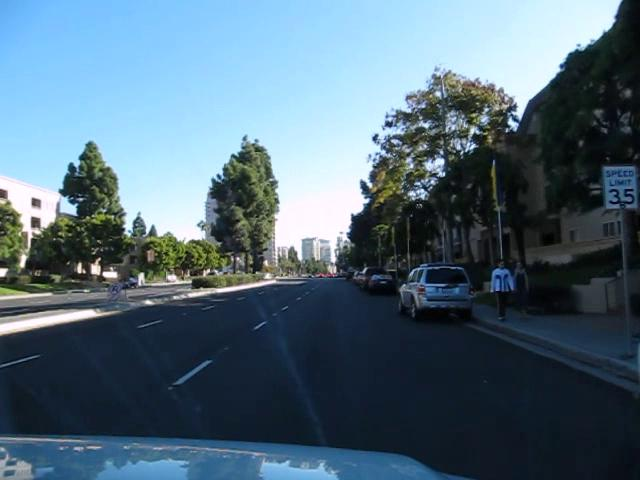speedLimit35: (601, 164, 639, 210)
